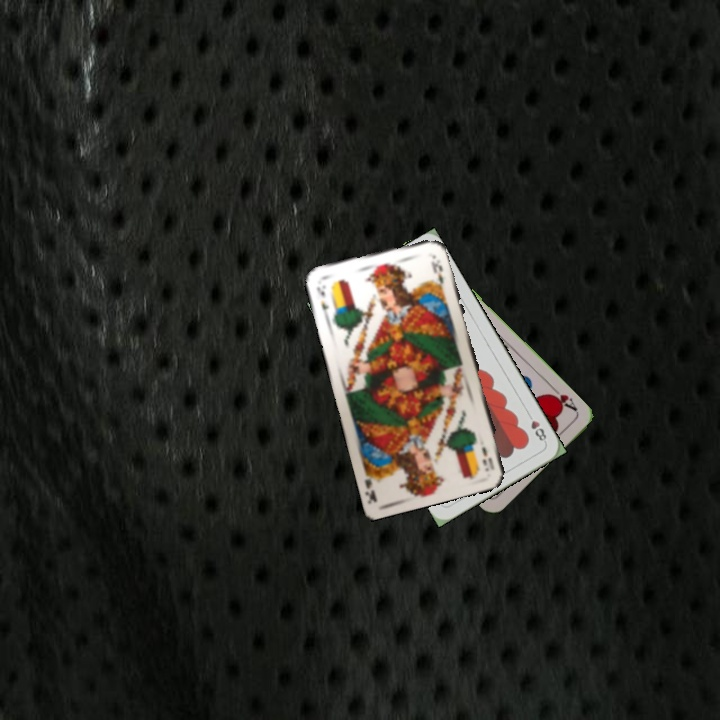EK: (312, 281, 332, 320), (477, 442, 497, 474)
H8: (523, 409, 549, 446)
HA: (544, 383, 580, 415)
